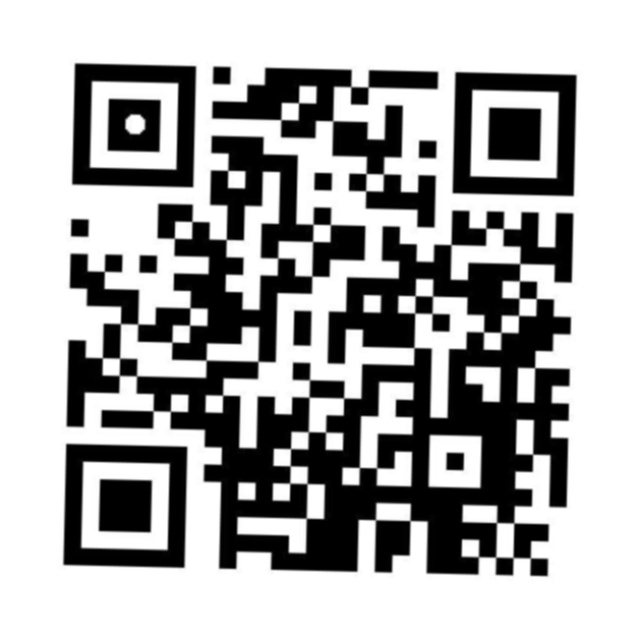qr-code: (49, 50, 597, 592)
